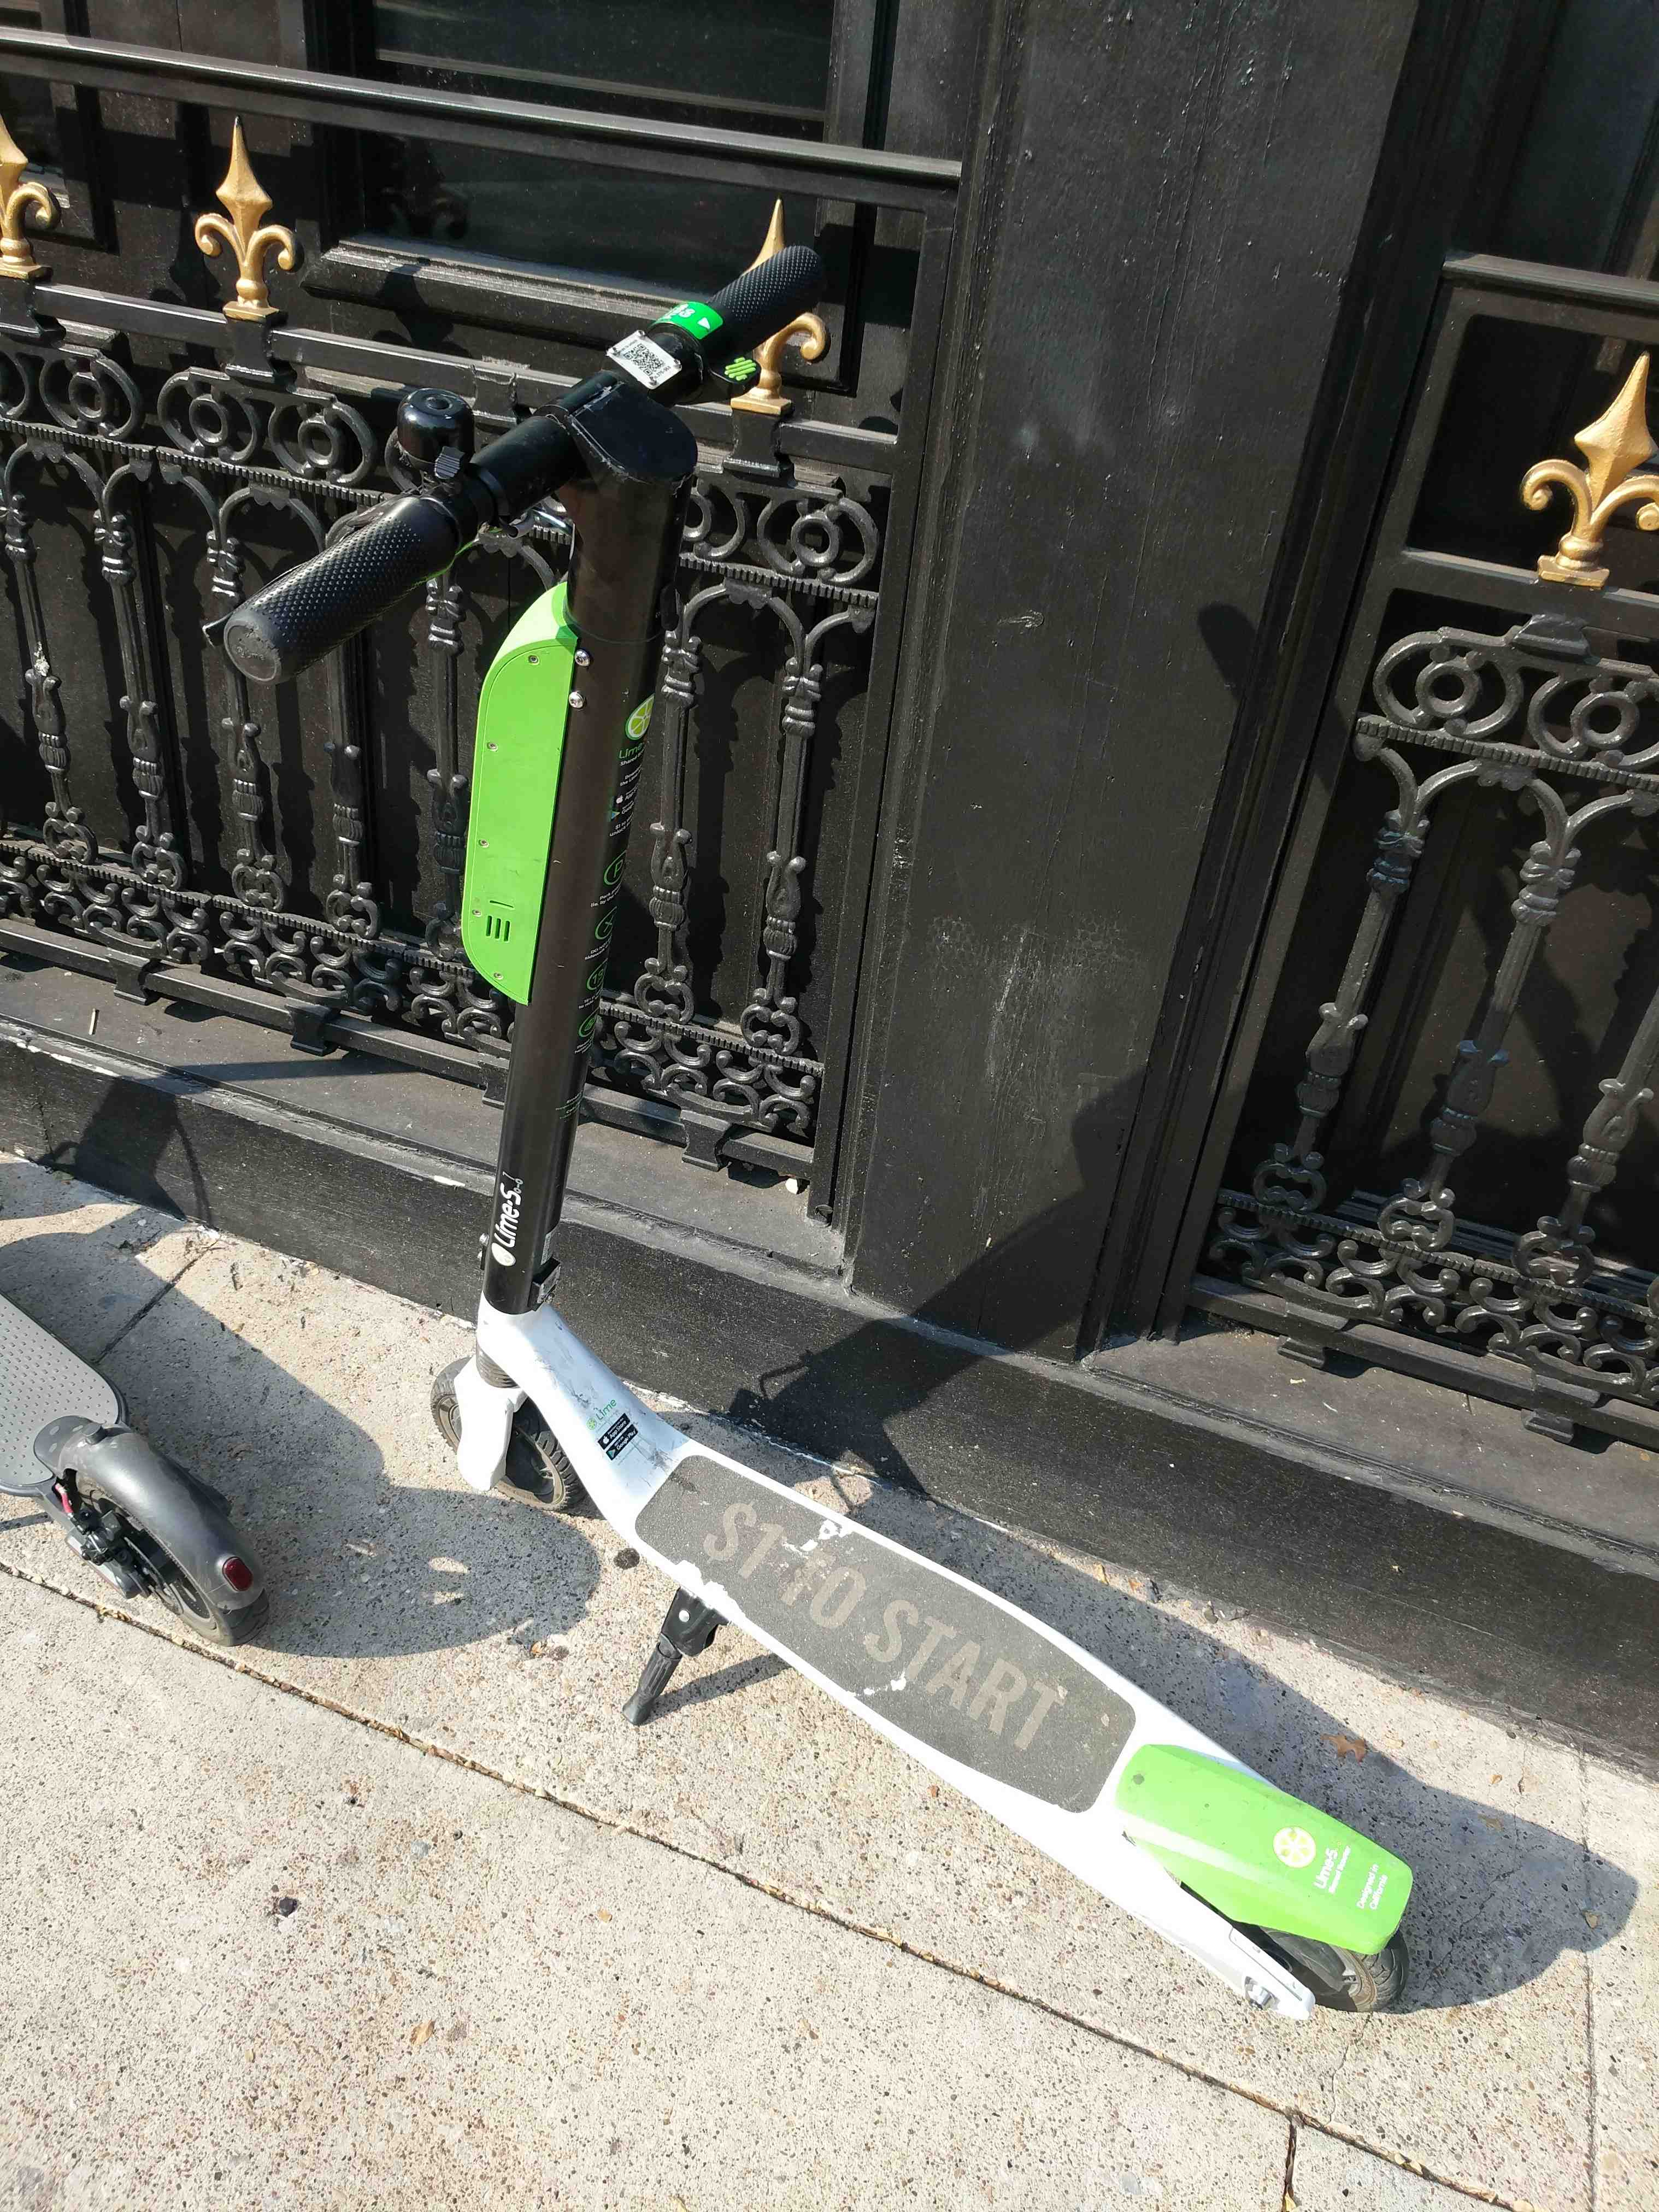scooter: (188, 195, 1500, 2073)
